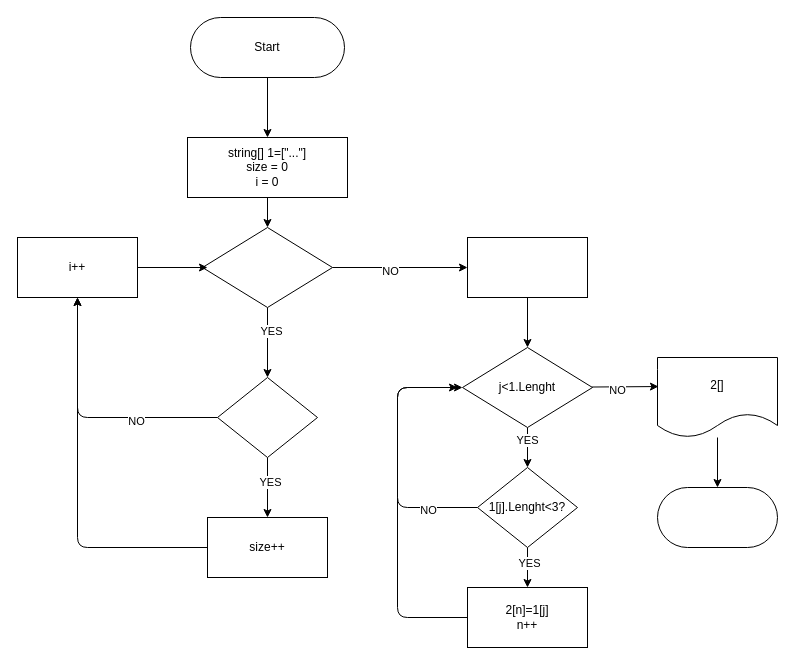
Image size: 795x665. Some labels were removed from this diagram. Here are the shapes that lost their labels. From the top down, the box of each, then its label:
(202, 226, 332, 308): i<1.Lenght
(466, 236, 588, 298): string[] 2 = new [size] j = 0 n = 0
(216, 376, 318, 458): 1[i].Lenght<3?
(656, 486, 778, 548): END
